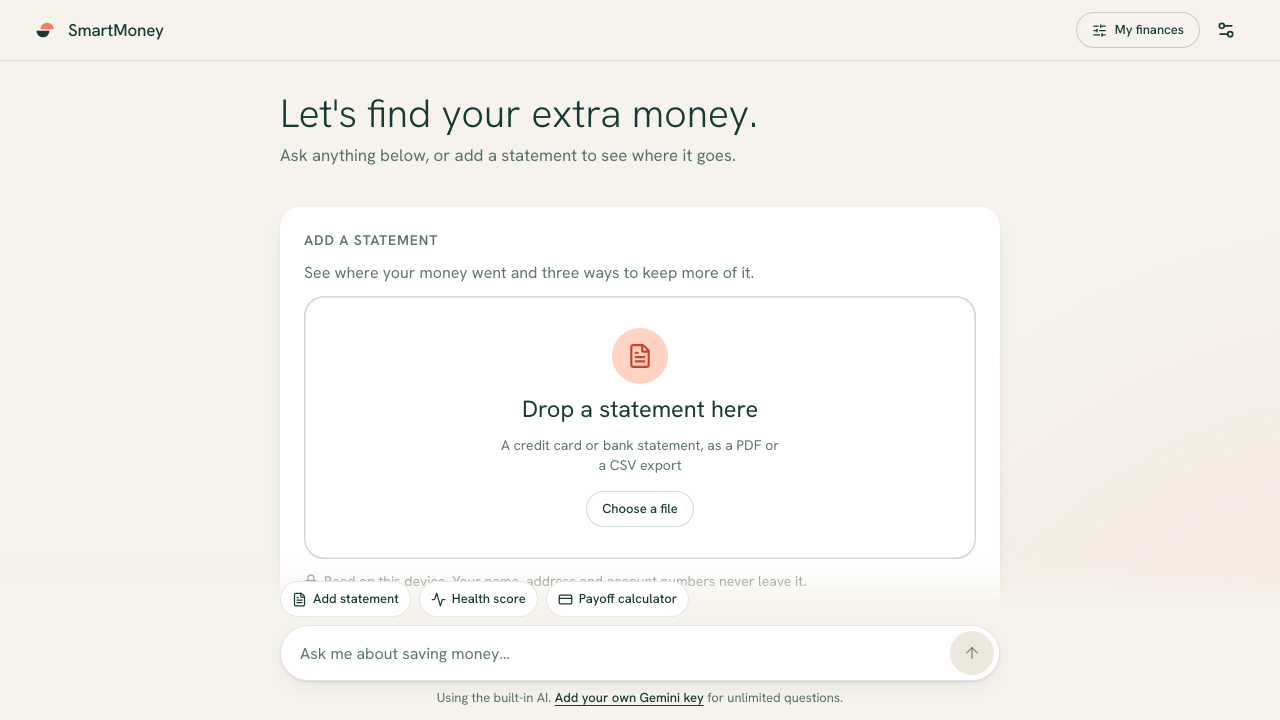
it: routes › sends My finances to the detailed editor and back
Later steps or results of the test are not shown.
Click the button "My finances" at (1138, 30), box 1076,12 -> 1200,48
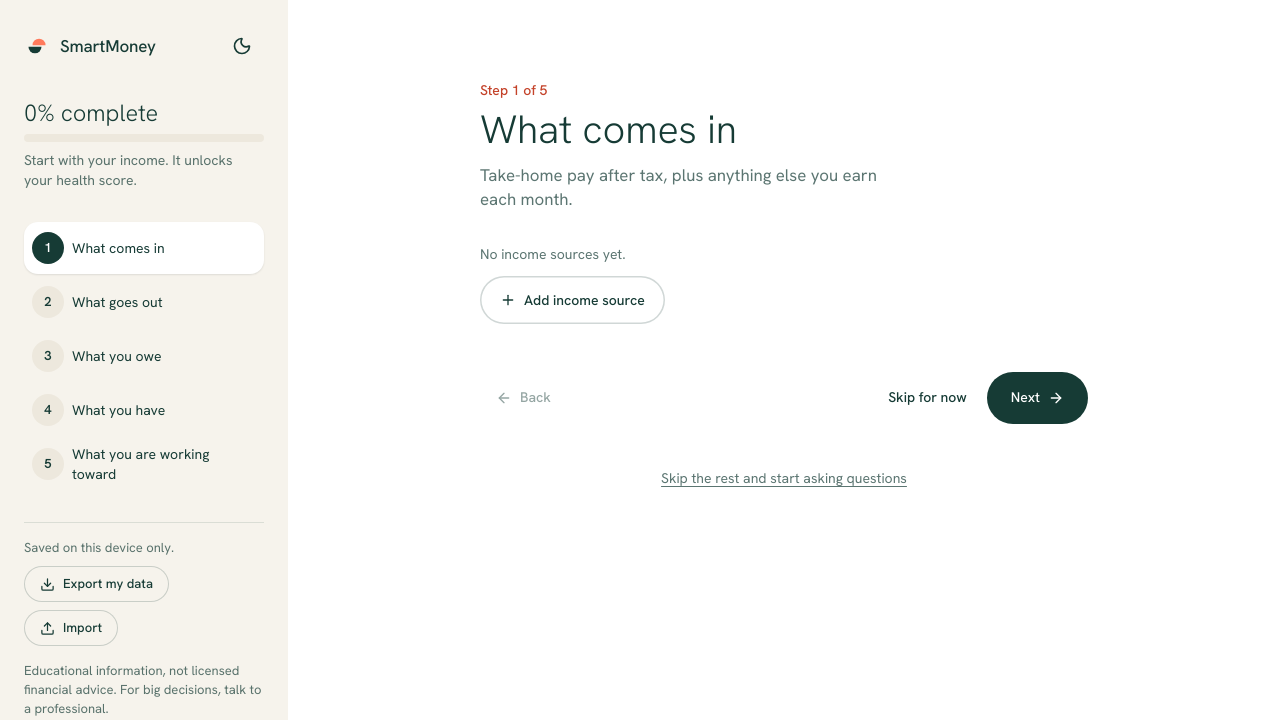
Check: the text "0% complete" is shown, box 24,97 -> 158,128
